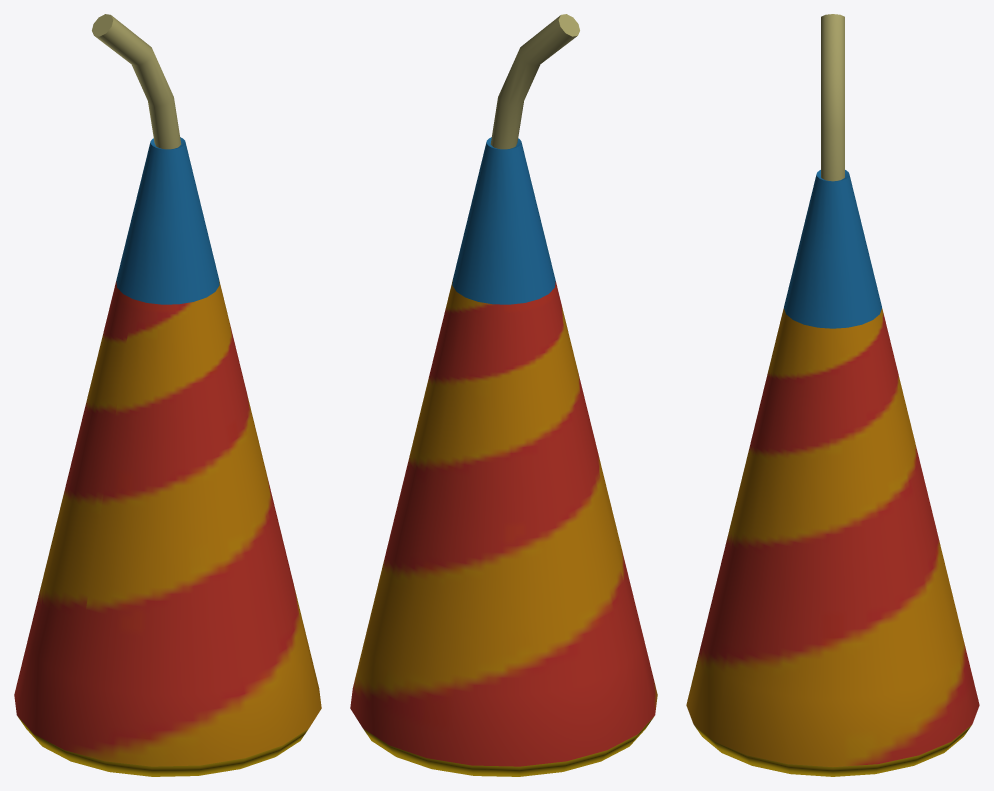
The model's file is ToolCracker.glb.
The picture shows the model from 3 angles, left to right: view 1: azimuth 30°, elevation 25°; view 2: azimuth 150°, elevation 25°; view 3: azimuth 270°, elevation 25°; orthographic projection. The views are drawn at different scales.
Visible parts, largest first — view 1: Base__mTool; view 2: Base__mTool; view 3: Base__mTool.
Boxes of the visible parts, box(x1,y1,x2,y2) form: Base__mTool: box(14, 14, 321, 776); Base__mTool: box(350, 14, 657, 776); Base__mTool: box(686, 14, 979, 776).
Size of the model in its own units: 1.33 by 3.4 by 1.33.
Materials: 1 (1 with a texture image).
